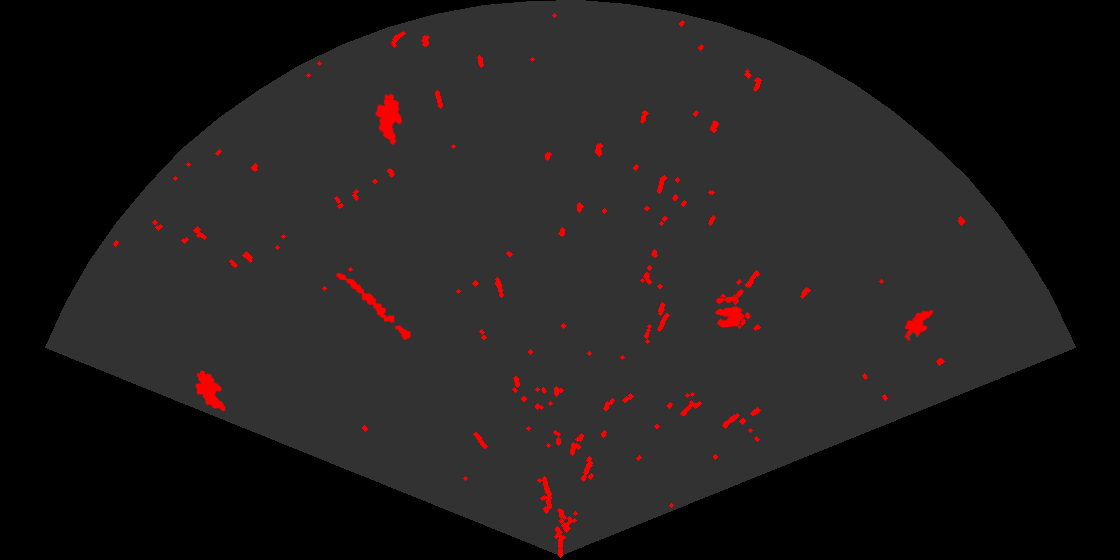AUV: (374, 91, 404, 147), (194, 369, 227, 413), (903, 308, 935, 343)
ball: (713, 295, 746, 329)
chain: (335, 271, 412, 342)
